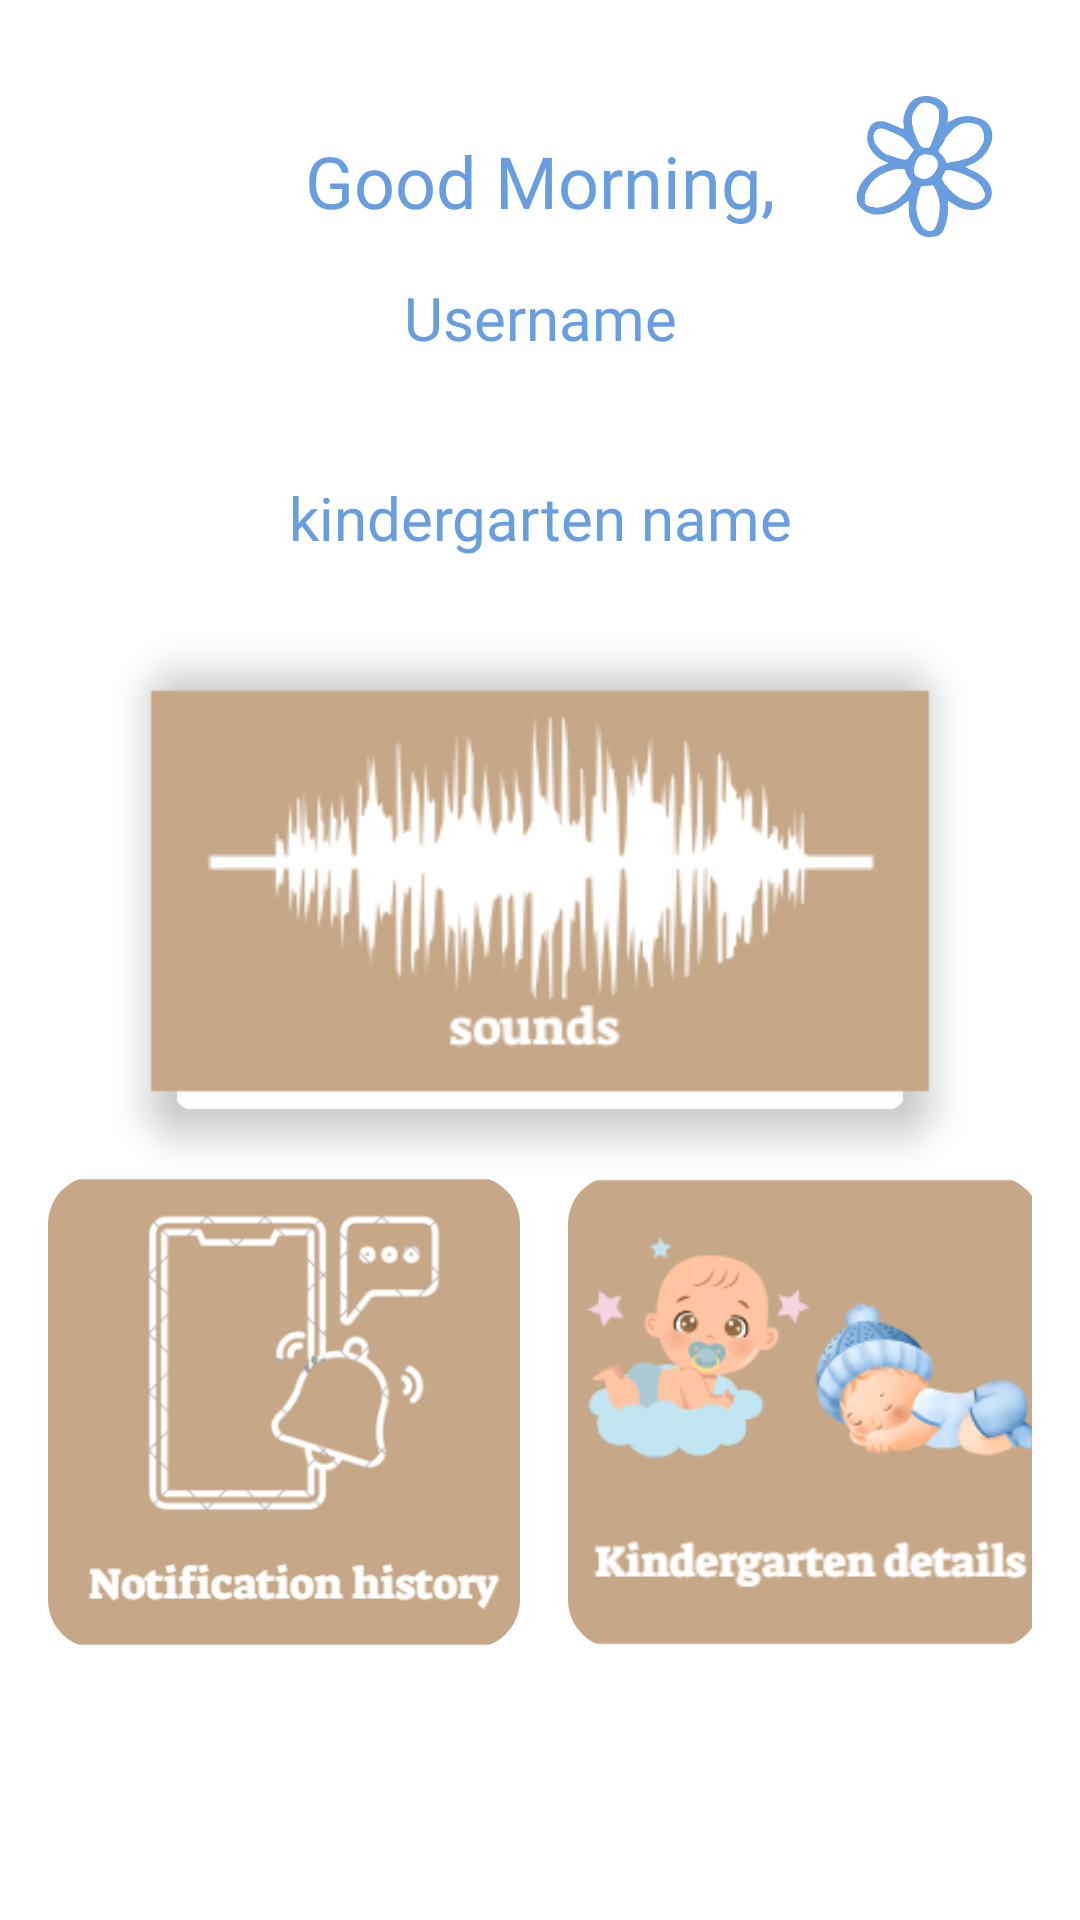

Where to tap for icons on this 1080 x 1920 app screen, as (x,y):
flower: (924,166)
